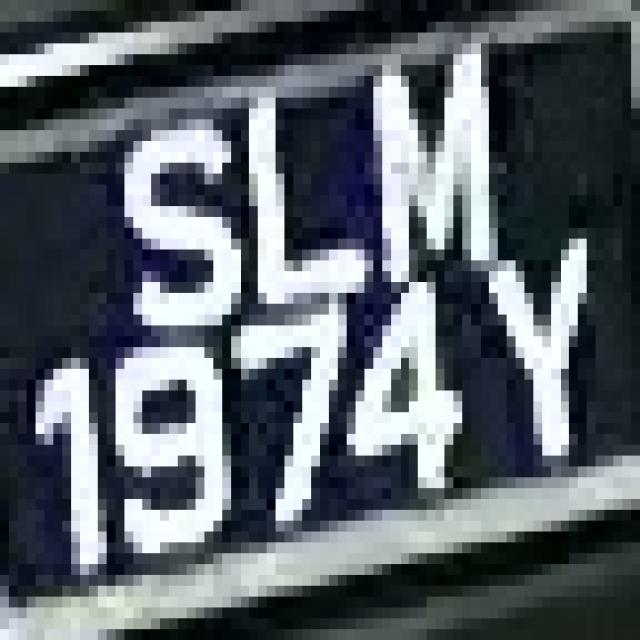1: (35, 326, 134, 596)
4: (329, 228, 498, 542)
7: (213, 271, 364, 564)
9: (98, 325, 249, 586)
L: (222, 55, 374, 336)
M: (347, 22, 516, 293)
S: (98, 87, 240, 358)
Y: (453, 217, 622, 510)
